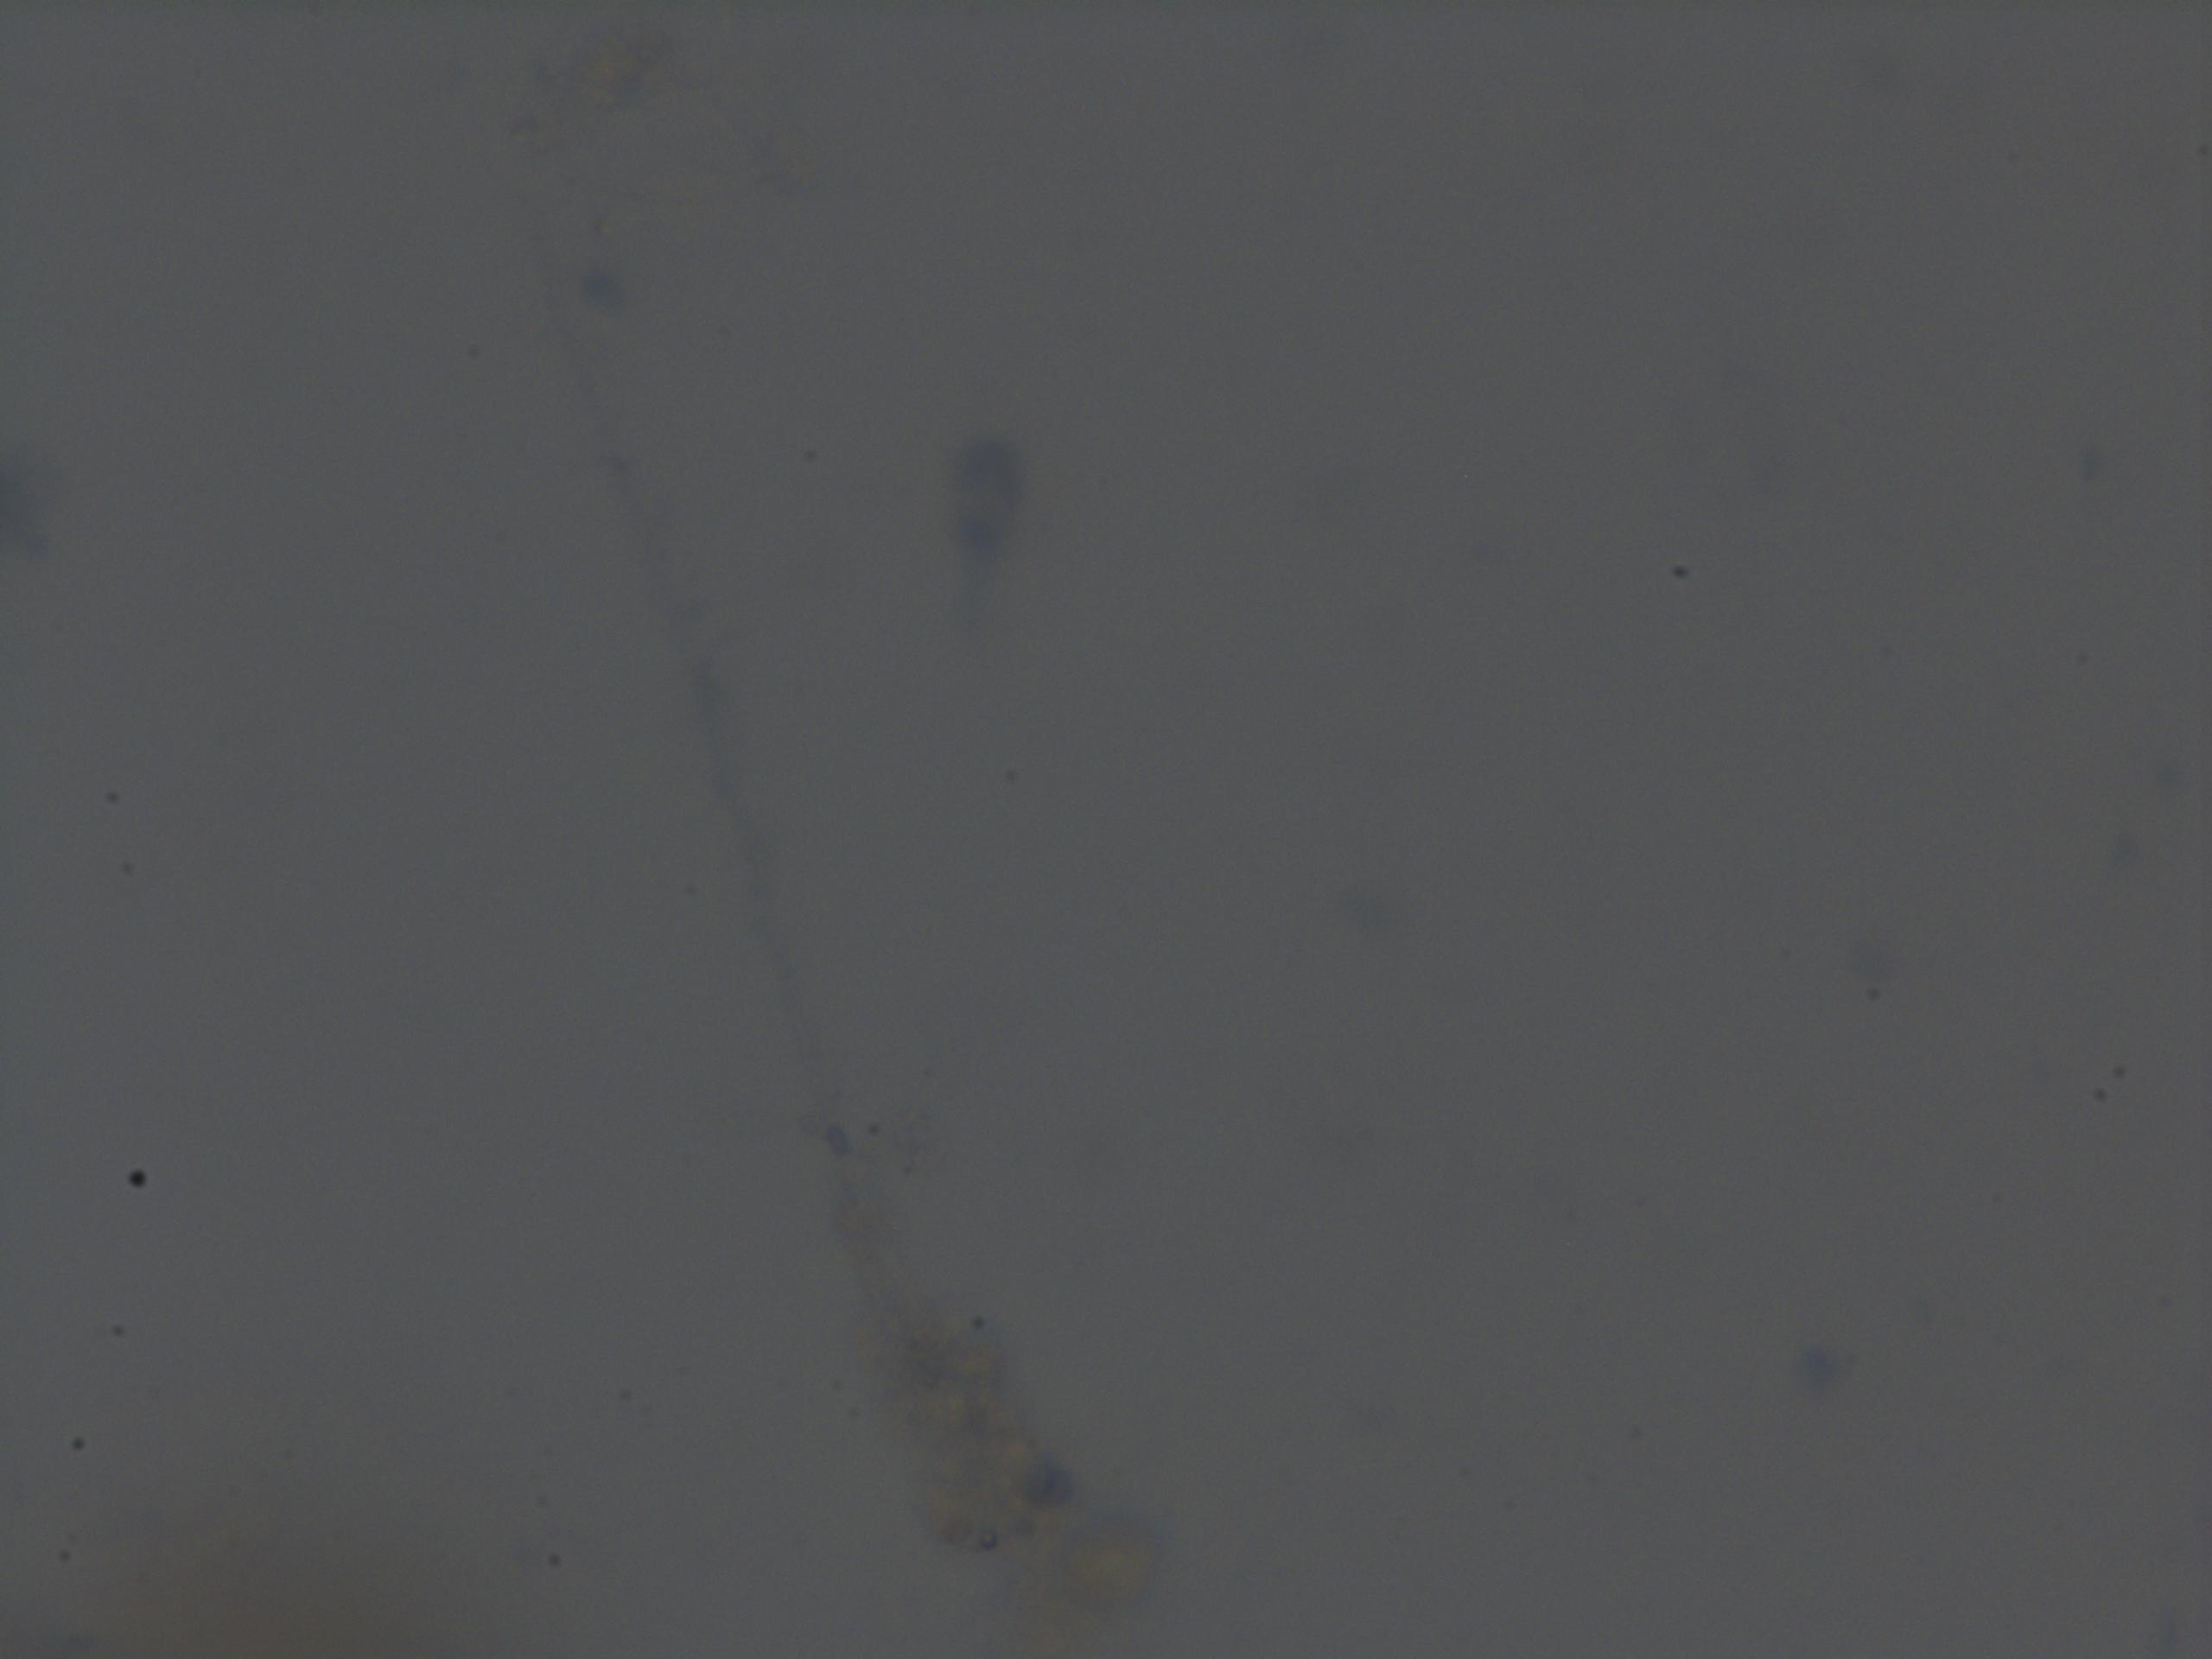filament: (489, 138, 1085, 1565)
